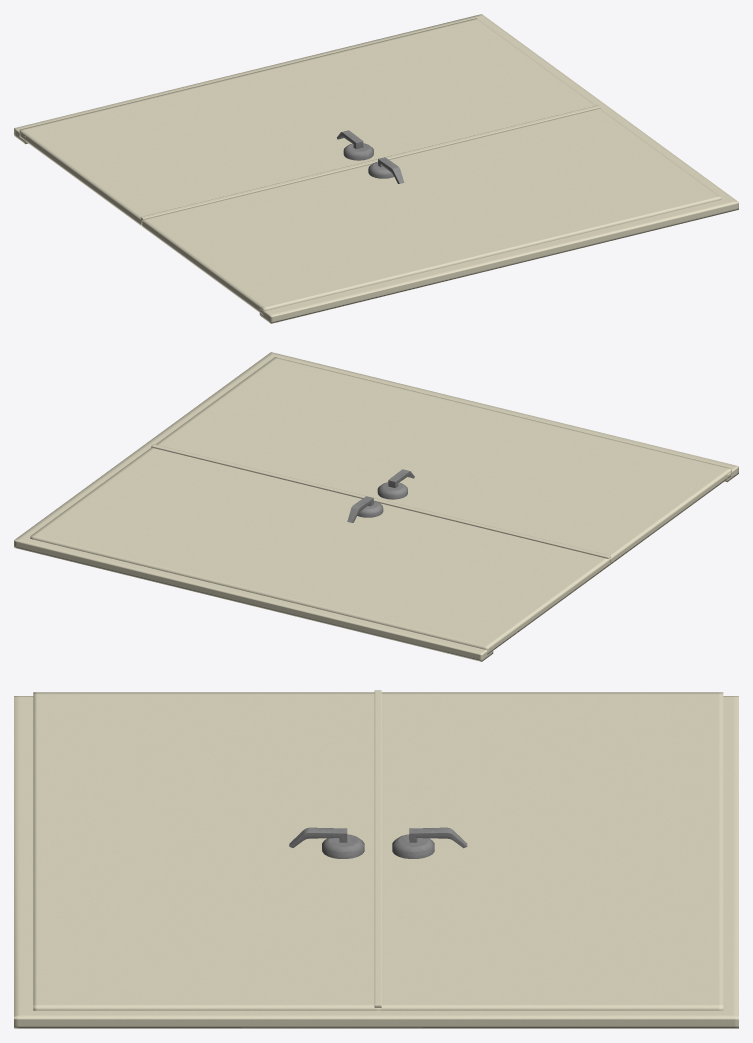
File: SM_097_Door.fbx
3 views of the same model, one above another, from view 1: azimuth 30°, elevation 25°; view 2: azimuth 150°, elevation 25°; view 3: azimuth 270°, elevation 25° (orthographic). The views are drawn at different scales.
Visible parts, largest first — view 1: SM_097_Door; view 2: SM_097_Door; view 3: SM_097_Door.
Part boxes in pixels (x1=…): SM_097_Door: x1=14, y1=14, x2=738, y2=323; SM_097_Door: x1=14, y1=352, x2=738, y2=661; SM_097_Door: x1=14, y1=690, x2=738, y2=1028.
Size of the model in its own units: 234 by 223 by 11.53.
1 material, 1 textured.
